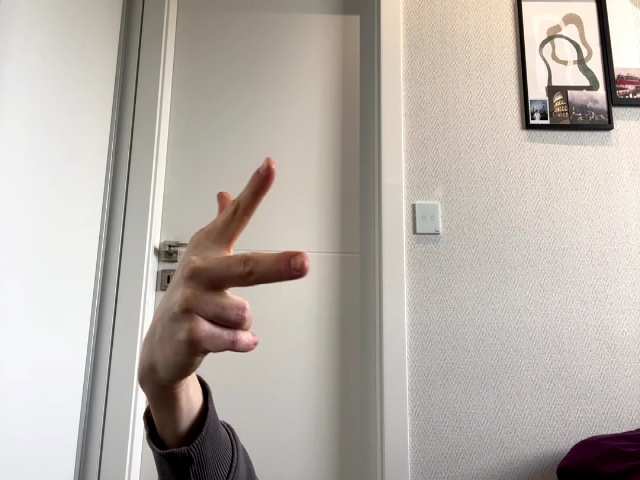K: (155, 157, 309, 381)
